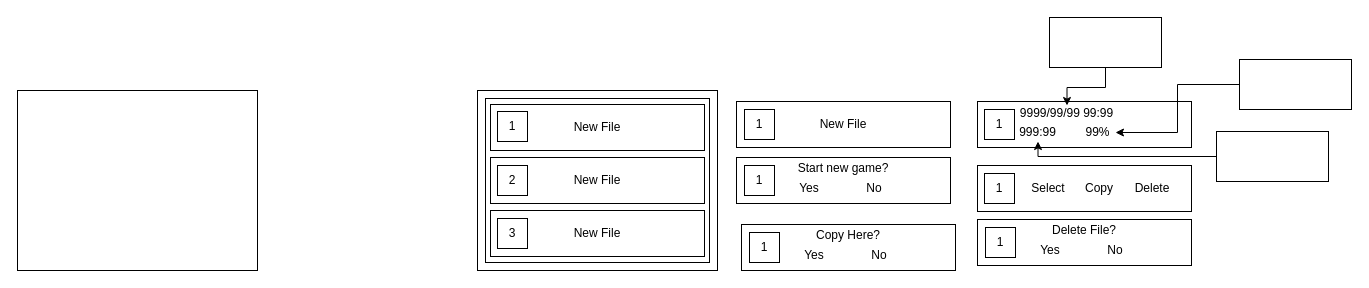
Some shapes in this 1369 by 288 pixel diagram are drawn without their labels. Here are the shapes that lost their labels. From the top down, the centre of each, then its label:
(x=1105, y=42): Timestamp
(x=1295, y=84): Completion
(x=1272, y=156): Playtime(min:sec)
(x=137, y=180): Press any button
